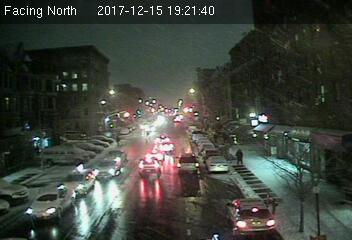car: (225, 198, 279, 236), (25, 184, 75, 221), (61, 164, 94, 197), (136, 156, 162, 177), (93, 160, 120, 178), (176, 154, 200, 173), (205, 156, 230, 173), (159, 141, 176, 155)
pedestrian: (234, 149, 245, 166)
